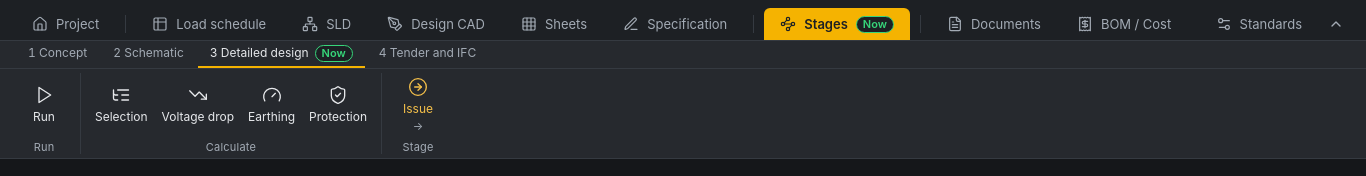
Test: the Stages tab › shows each stage's tools from its sub-tab
Expected: the element with id "ribbon-tools" shows "Voltage drop", [156, 73, 240, 138]
Click the tab "2 Schematic" at {"x": 148, "y": 54}, box [101, 41, 196, 68]
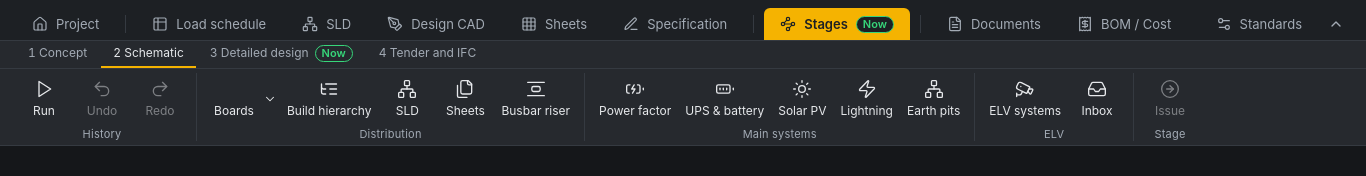
Result: the element with id "ribbon-tools" shows "Busbar riser" at [495, 73, 576, 125]
Result: the button with id "ribbon-tools" no longer shows "Voltage drop"
